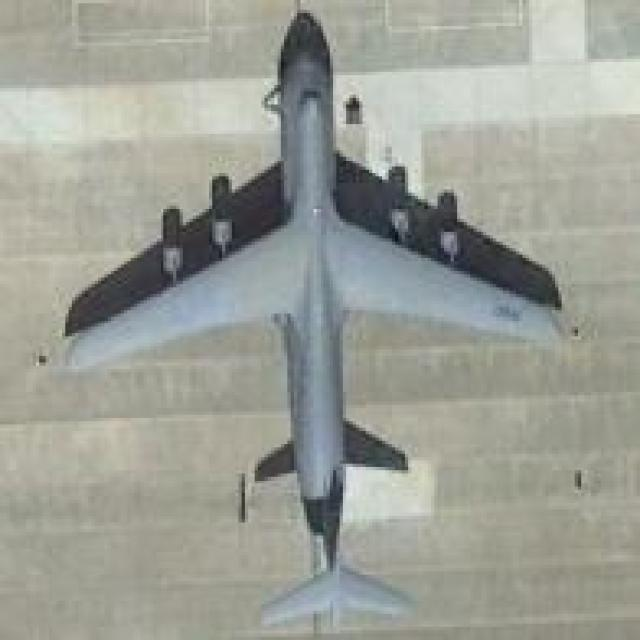C-5_TopDown: (58, 6, 574, 627)
